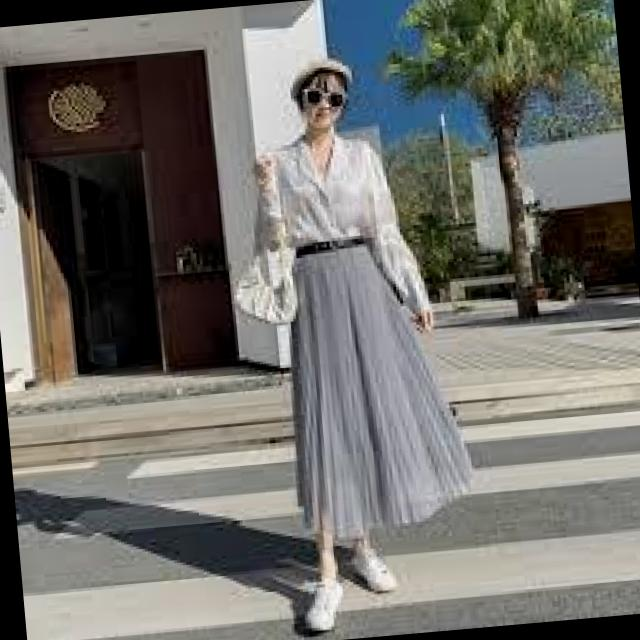shirt: (243, 127, 418, 297)
skirt: (274, 224, 474, 546)
